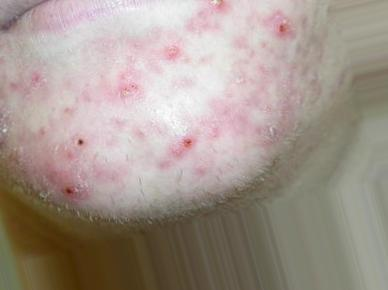Acne: (43, 151, 105, 203), (0, 67, 63, 103), (156, 127, 217, 161), (260, 13, 319, 43), (195, 0, 241, 29), (99, 74, 148, 101)
